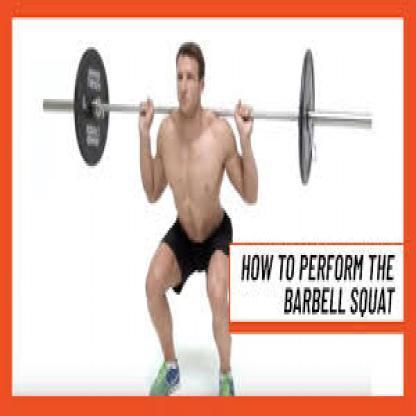Barbell: (366, 105, 378, 142)
